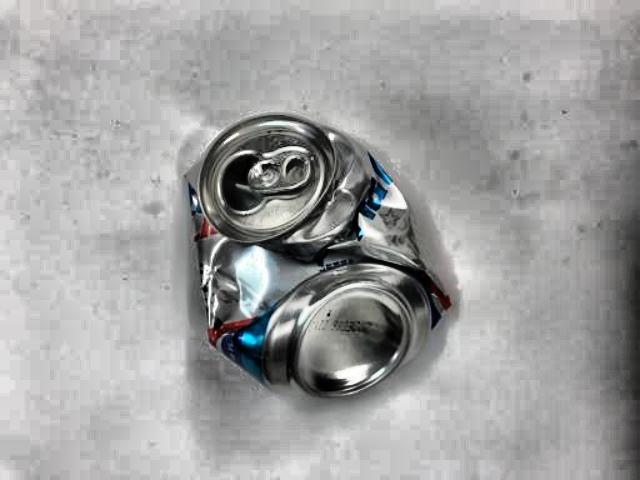Bottles: (167, 79, 463, 413)
